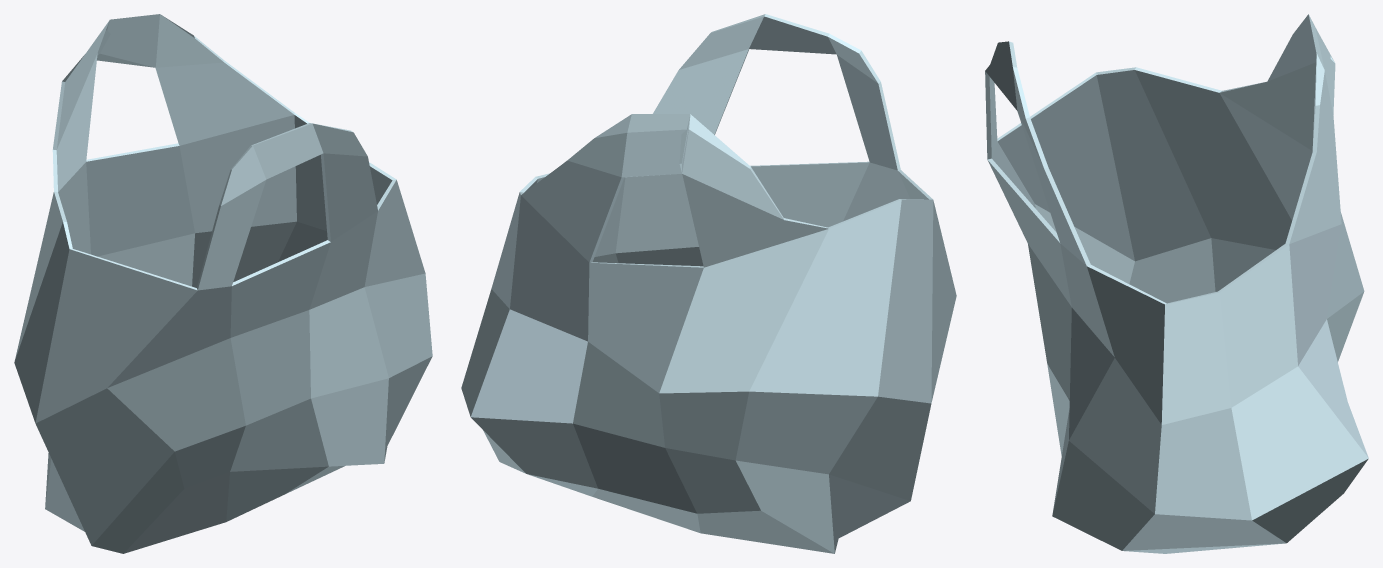
File: plasticbag.fbx
3 renders of one model, left to right at view 1: azimuth 30°, elevation 25°; view 2: azimuth 150°, elevation 25°; view 3: azimuth 270°, elevation 25°, orthographic. The views are drawn at different scales.
Parts seen in each view (by area): view 1: plastic bag.001; view 2: plastic bag.001; view 3: plastic bag.001.
Boxes of the visible parts, x1=… form: plastic bag.001: x1=14, y1=14, x2=432, y2=553; plastic bag.001: x1=461, y1=14, x2=956, y2=553; plastic bag.001: x1=985, y1=14, x2=1368, y2=553.
Bounding box in the file's own units: 325 × 350 × 248.
